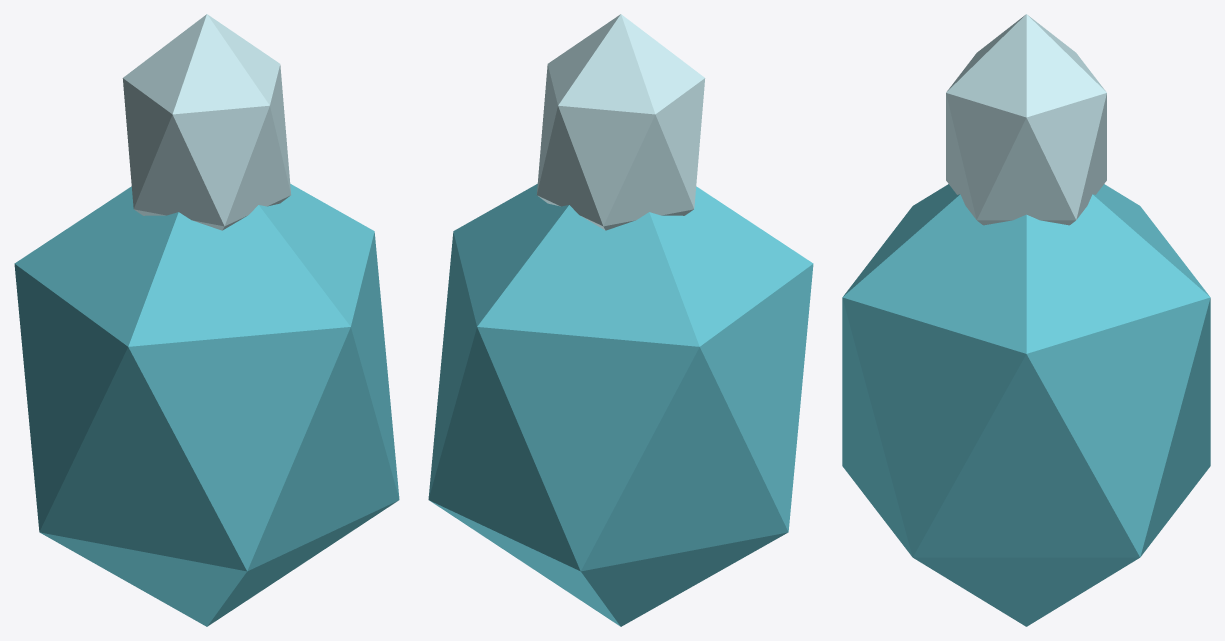
File: splash_drop.glb
The picture shows the model from 3 angles, left to right: view 1: azimuth 30°, elevation 25°; view 2: azimuth 150°, elevation 25°; view 3: azimuth 270°, elevation 25°; orthographic projection.
Parts seen in each view (by area): view 1: splash_drop; view 2: splash_drop; view 3: splash_drop.
Boxes of the visible parts, bbox=[...] form: splash_drop: bbox=[14, 14, 399, 626]; splash_drop: bbox=[428, 14, 813, 626]; splash_drop: bbox=[842, 14, 1210, 626].
Size of the model in its own units: 0.0286 by 0.05 by 0.0272.
